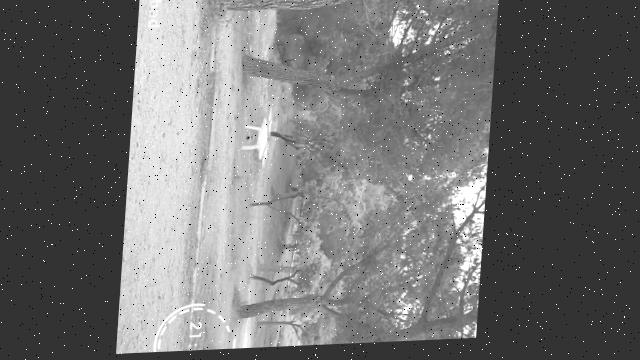drone: (244, 107, 277, 171)
